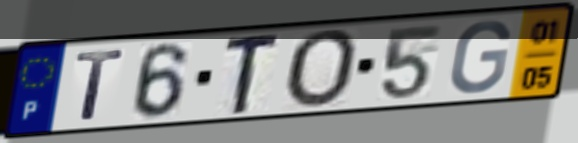5: (380, 22, 446, 103)
6: (130, 39, 194, 122)
G: (446, 18, 514, 96)
O: (283, 27, 363, 112)
T: (222, 29, 285, 118), (72, 47, 127, 123)
